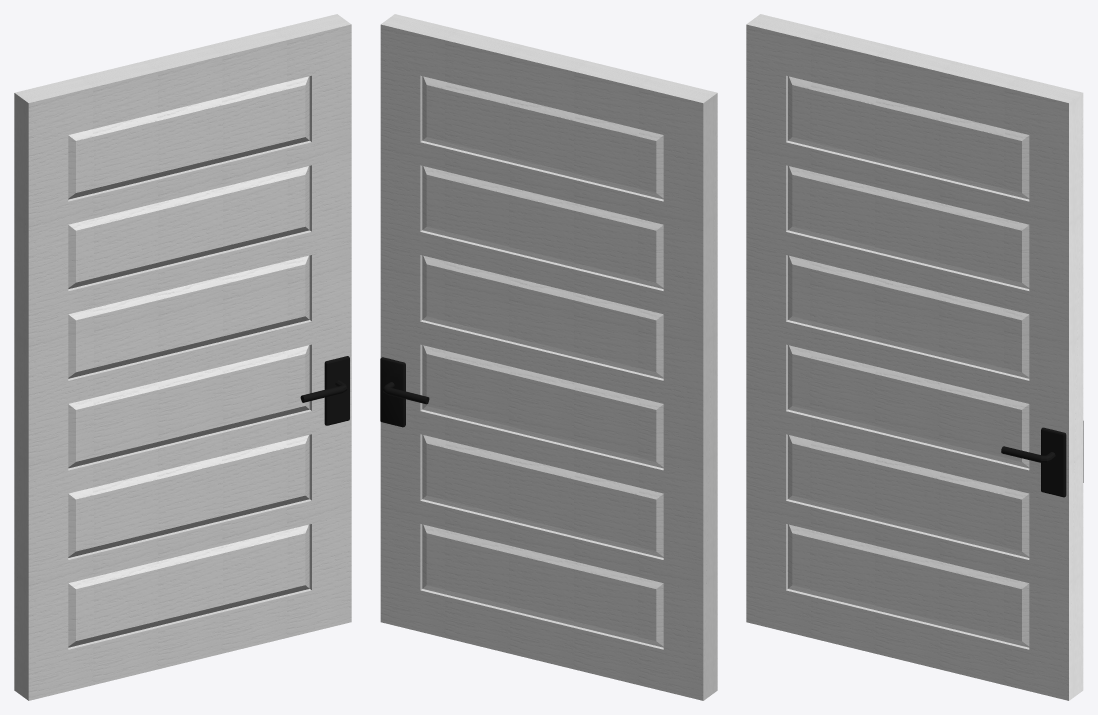
Rendered from WhiteWoodDoor.FBX.
3 renders of one model, left to right at view 1: azimuth 30°, elevation 25°; view 2: azimuth 150°, elevation 25°; view 3: azimuth 330°, elevation 25°, orthographic.
Visible parts, largest first — view 1: Door; view 2: Door; view 3: Door.
Boxes of the visible parts, x1,y1,x2,y2 form: Door: (14, 14, 351, 700); Door: (380, 14, 717, 700); Door: (746, 14, 1083, 700).
Bounding box in the file's own units: 117 × 207 × 23.37.
